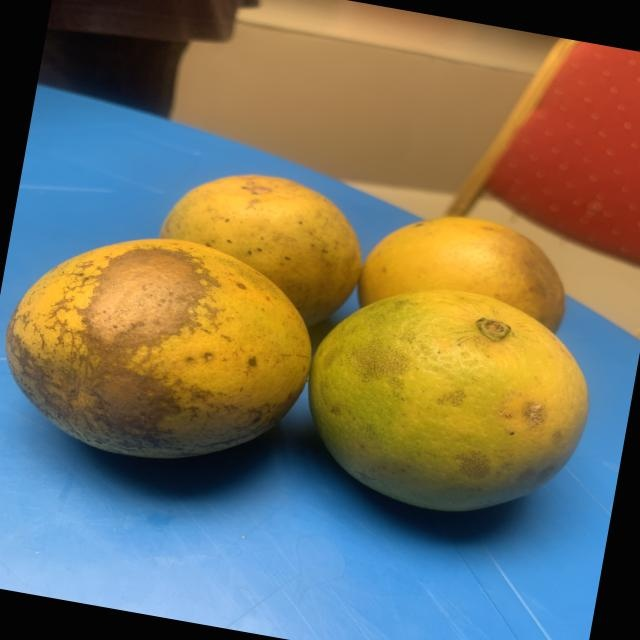agrume: (0, 210, 334, 495), (286, 261, 614, 543), (152, 140, 377, 328), (352, 186, 585, 350)
